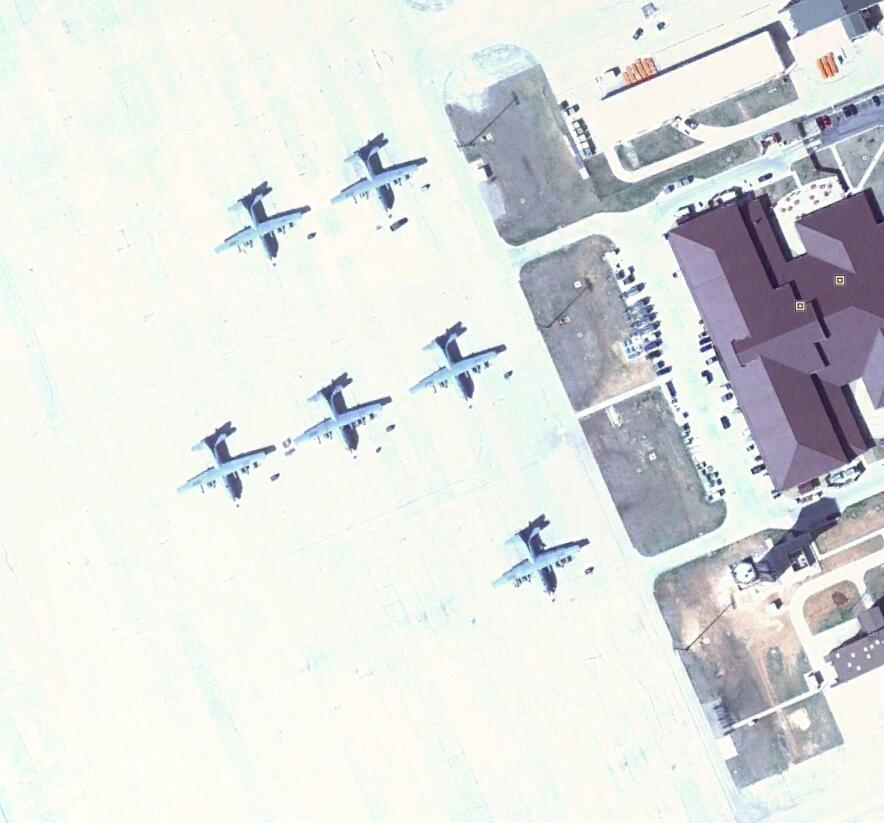A2: (291, 371, 394, 455), (326, 138, 428, 219), (492, 515, 588, 601), (215, 181, 312, 262), (178, 425, 277, 504), (407, 324, 506, 400)
